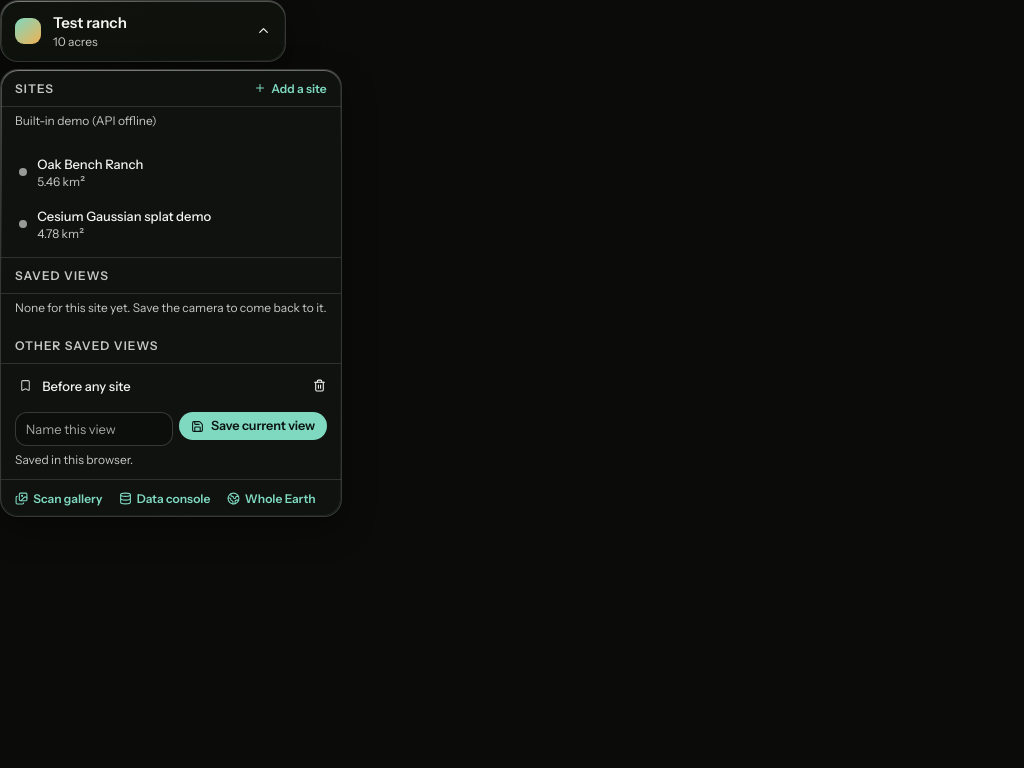
Test: views saved with no site › show under Other saved views at a site, and can still be deleted there
Expected: the button with test id "saved-view-Before any site" is shown, x1=8 y1=370 x2=303 y2=401
Expected: the text "None for this site yet. Save the camera to come back to it." is shown, x1=15 y1=300 x2=326 y2=315
Click the button named "Delete Before any site".
click(319, 386)  # box x1=306 y1=372 x2=333 y2=400
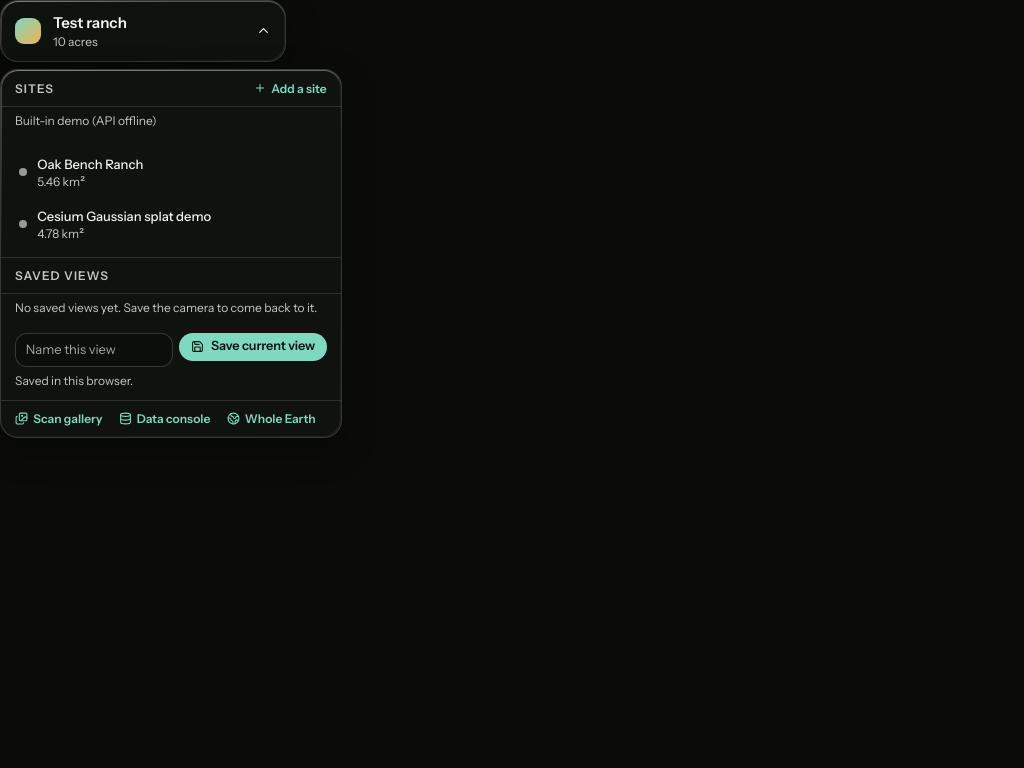
Now the text "Other saved views" is gone
